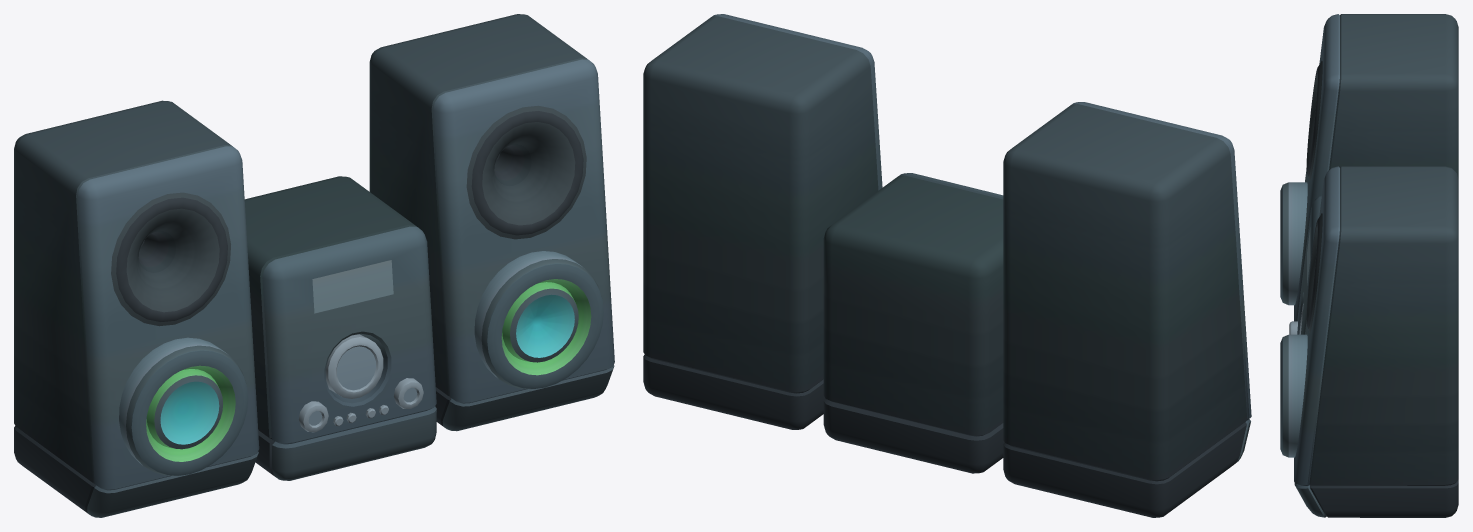
Rendered from Audio_05.glb.
3 views of the same model, side by side, from view 1: azimuth 30°, elevation 25°; view 2: azimuth 150°, elevation 25°; view 3: azimuth 270°, elevation 25° (orthographic). The views are drawn at different scales.
Parts seen in each view (by area): view 1: Audio_05; view 2: Audio_05; view 3: Audio_05.
Boxes of the visible parts, x1,y1,x2,y2 form: Audio_05: (14,14,614,517); Audio_05: (643,14,1251,517); Audio_05: (1280,14,1458,517).
Size of the model in its own units: 0.7512 by 0.4589 by 0.2549.
1 material, 1 textured.
